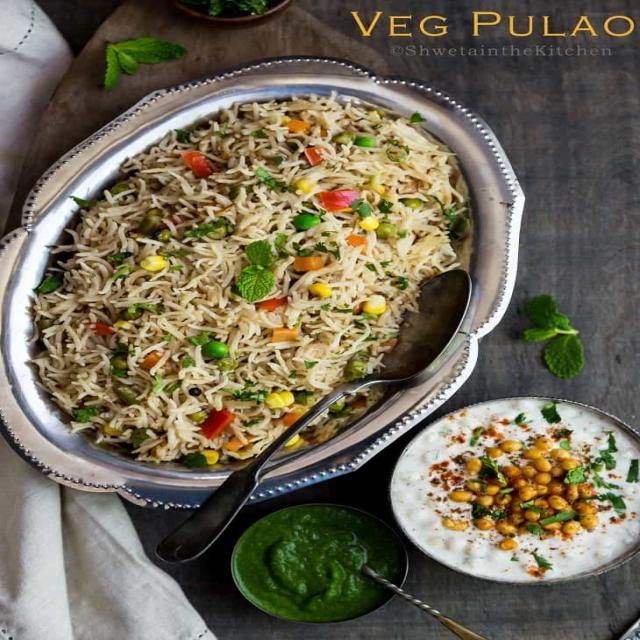veg palav: (21, 86, 485, 479)
